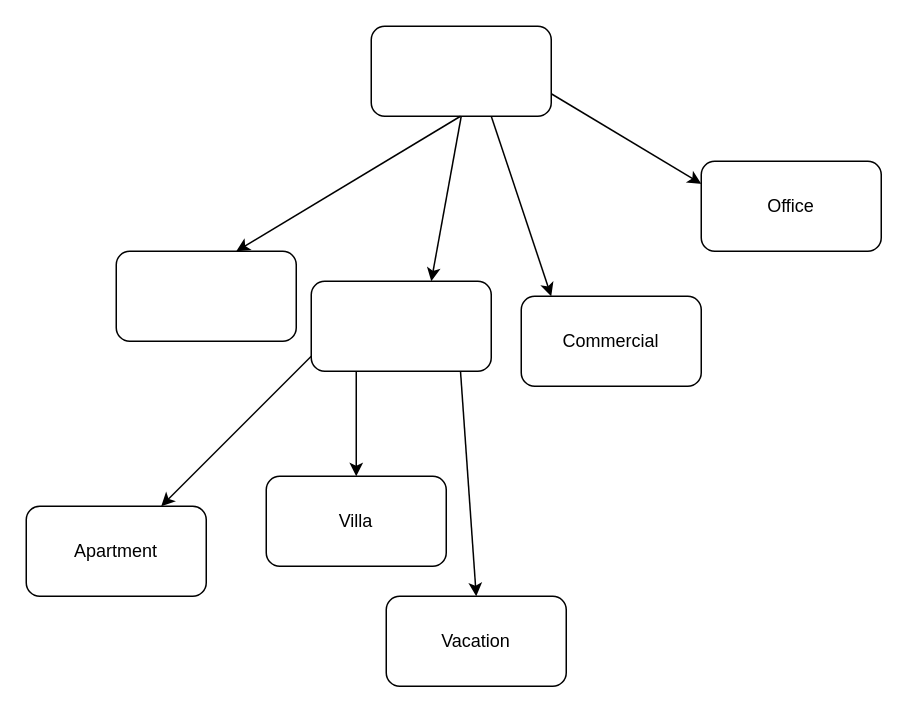
The diagram is 908 pixels wide and 713 high, and some of its shapes have lost their labels. The centre of each missing label's shape, as x and y in pixels:
"Plot" belongs at pixel 205 295.
"Property" belongs at pixel 460 70.
"Residential" belongs at pixel 400 325.
